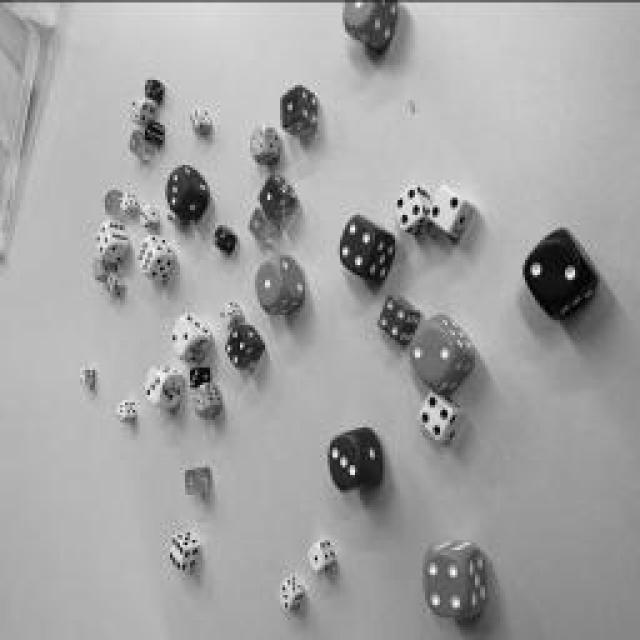dice_1: (256, 264, 279, 301), (345, 2, 375, 28), (261, 177, 279, 215), (281, 88, 299, 122), (308, 546, 322, 569)
dice_2: (525, 235, 590, 313), (410, 324, 452, 381), (430, 189, 460, 229), (170, 320, 190, 355), (220, 304, 232, 324), (130, 99, 140, 121), (214, 228, 224, 248), (120, 194, 128, 208), (80, 368, 85, 382)
dice_3: (330, 438, 358, 482), (168, 170, 182, 208), (145, 371, 160, 401), (194, 386, 206, 412), (279, 582, 291, 608), (186, 470, 196, 492), (190, 368, 200, 388), (129, 131, 139, 151), (92, 256, 100, 276), (105, 190, 113, 210), (140, 208, 148, 222), (145, 124, 153, 138), (118, 401, 124, 419)
dice_4: (424, 555, 464, 615), (338, 218, 372, 270), (419, 392, 451, 438), (379, 298, 406, 338), (395, 188, 420, 228), (226, 327, 246, 365), (96, 224, 109, 254), (250, 128, 265, 152)
dice_5: (250, 209, 262, 236), (145, 79, 153, 96)
dice_6: (168, 535, 184, 570), (138, 239, 152, 271), (190, 108, 200, 128), (106, 271, 114, 291), (167, 208, 175, 222)
